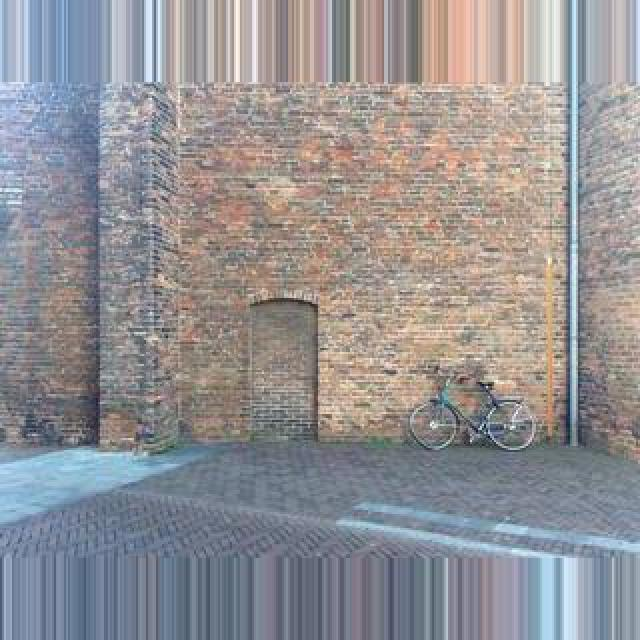Person: (408, 369, 538, 453)
